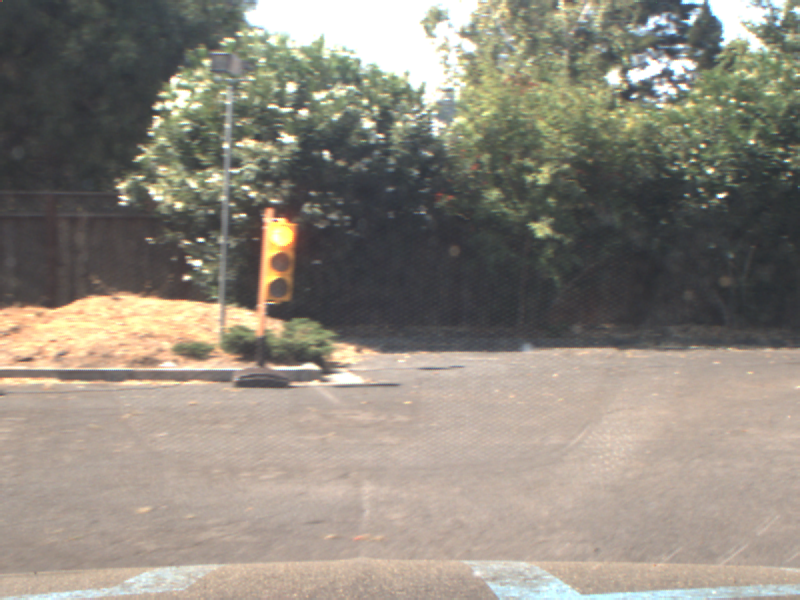red: (259, 212, 295, 303)
